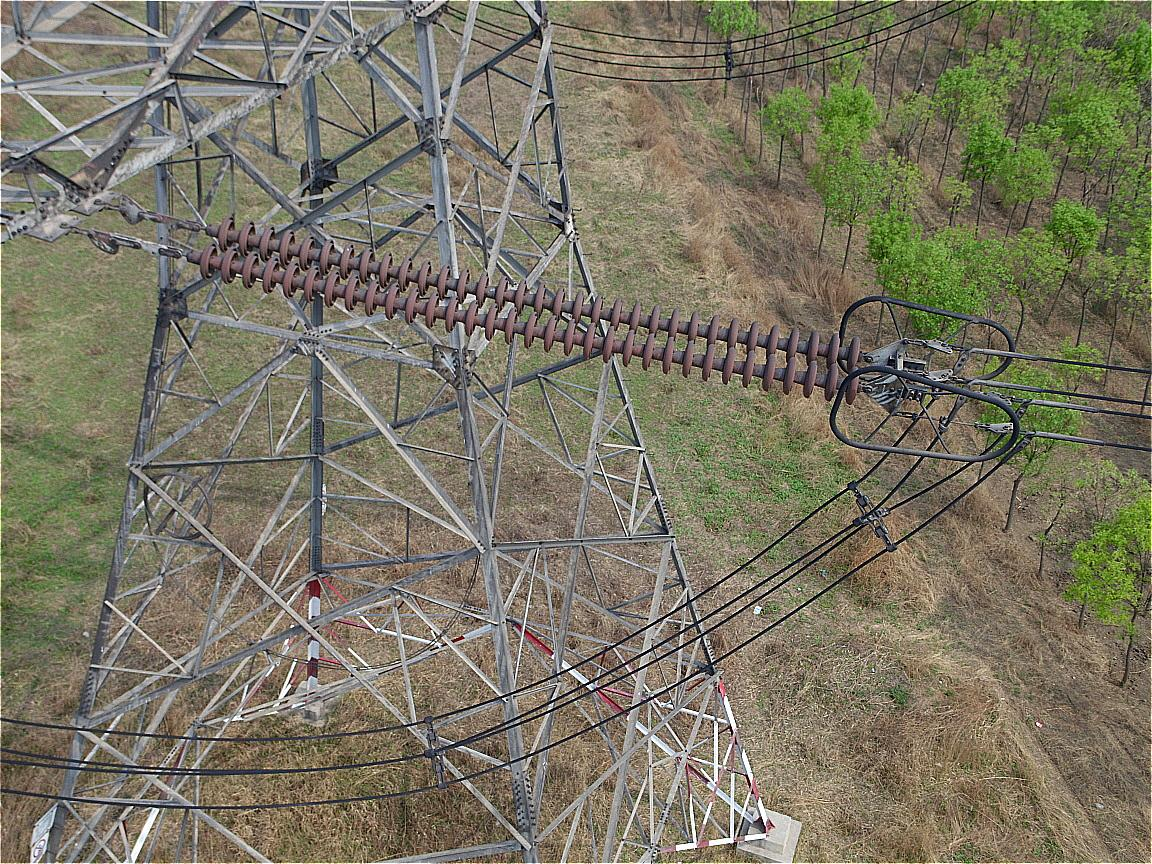insultor1: (199, 217, 860, 403)
